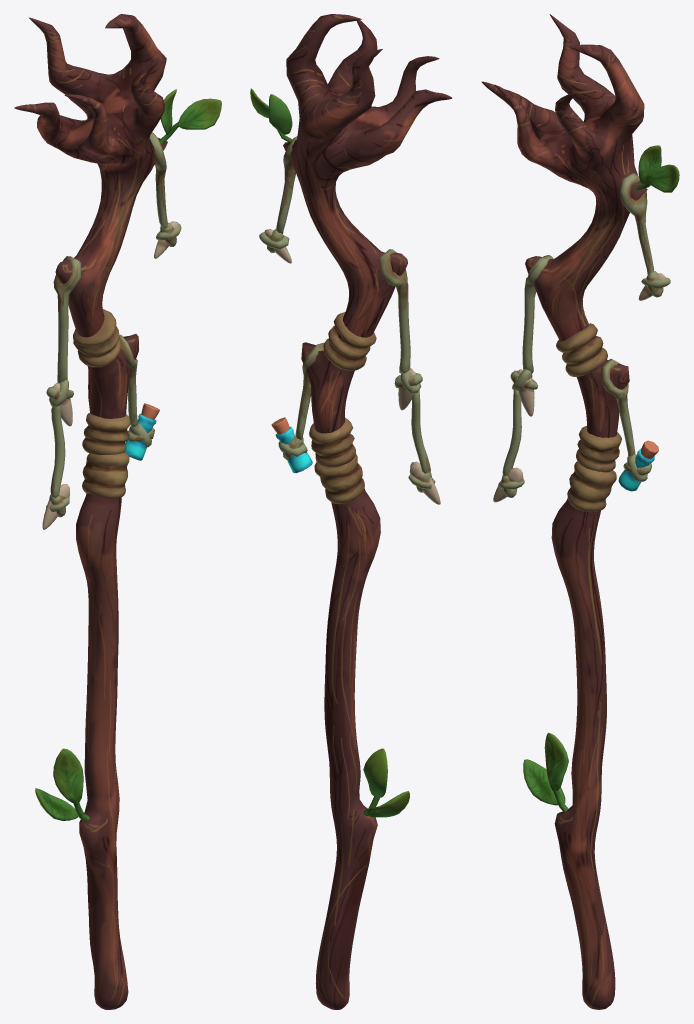
The model's file is druidWizard_staff.fbx.
The picture shows the model from 3 angles, left to right: view 1: azimuth 30°, elevation 25°; view 2: azimuth 150°, elevation 25°; view 3: azimuth 330°, elevation 25°; orthographic projection. The views are drawn at different scales.
Parts seen in each view (by area): view 1: staff_low; view 2: staff_low; view 3: staff_low.
Part boxes in pixels (x1,y1,x2,y2): staff_low: (14,14,221,1009); staff_low: (250,14,452,1009); staff_low: (481,14,679,1009).
Bounding box in the file's own units: 0.1772 × 0.8208 × 0.0929.
1 material, 1 textured.
